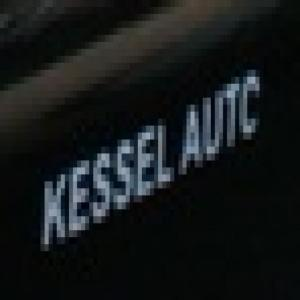Plate: (37, 58, 266, 261)
